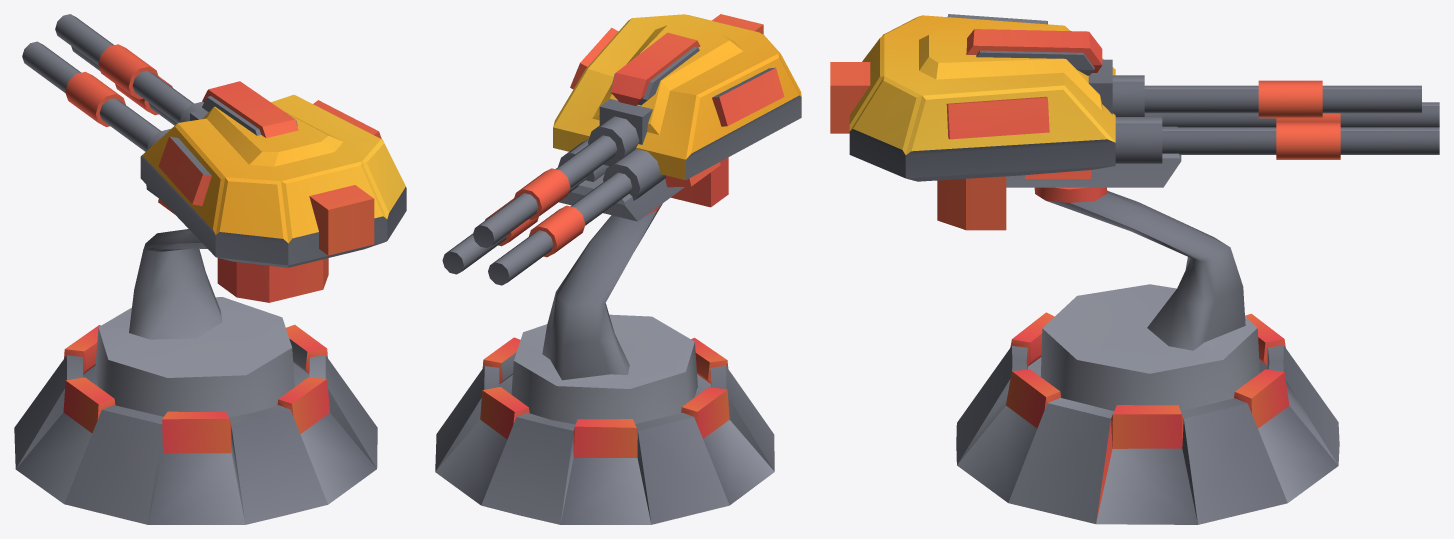
The model's file is Sci_Fi_Gun_06.fbx.
3 renders of one model, left to right at view 1: azimuth 30°, elevation 25°; view 2: azimuth 150°, elevation 25°; view 3: azimuth 270°, elevation 25°, orthographic. The views are drawn at different scales.
Parts seen in each view (by area): view 1: scsc, Turret, Gun (×3); view 2: scsc, Turret, Gun (×3); view 3: scsc, Turret, Gun (×3).
Part boxes in pixels (box(x1,y1,x2,y2)): scsc: box(14, 229, 377, 524); Turret: box(140, 81, 406, 302); Gun (×3): box(22, 14, 193, 151); scsc: box(435, 203, 774, 524); Turret: box(553, 14, 801, 221); Gun (×3): box(442, 135, 632, 285); scsc: box(956, 187, 1339, 524); Turret: box(830, 14, 1181, 230); Gun (×3): box(1144, 80, 1439, 159).
Size of the model in its own units: 147 by 172 by 234.
Materials: 1 (1 with a texture image).
